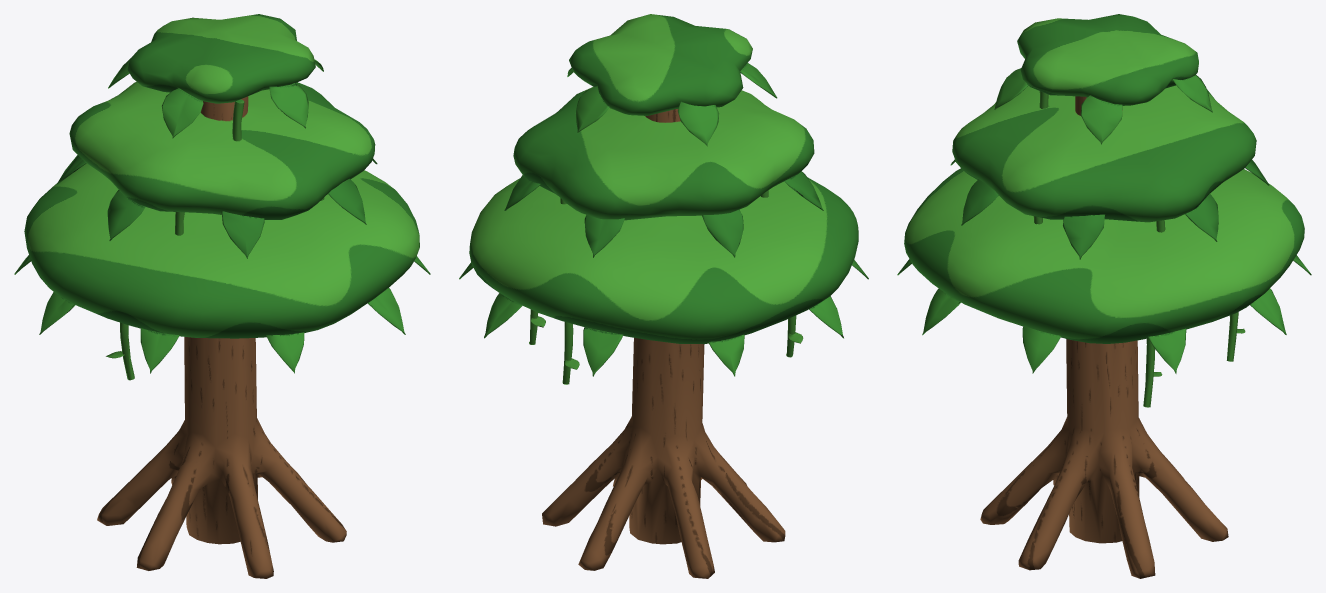
The model's file is JungleTree.fbx.
The picture shows the model from 3 angles, left to right: view 1: azimuth 30°, elevation 25°; view 2: azimuth 150°, elevation 25°; view 3: azimuth 270°, elevation 25°; orthographic projection.
Visible parts, largest first — view 1: JungleTree; view 2: JungleTree; view 3: JungleTree.
Part boxes in pixels (bbox=[...]): JungleTree: bbox=[14, 14, 430, 578]; JungleTree: bbox=[459, 14, 868, 578]; JungleTree: bbox=[897, 14, 1311, 578].
Size of the model in its own units: 3.46 by 4.58 by 3.49.
Materials: 1 (1 with a texture image).
